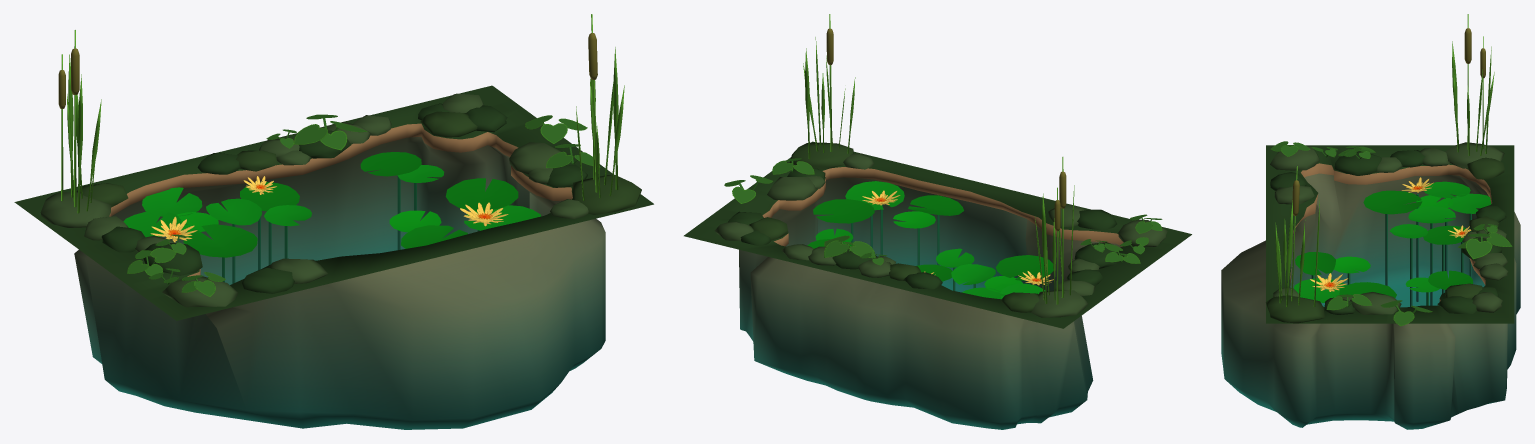
Rendered from Pond_NoAnim.glb.
The picture shows the model from 3 angles, left to right: view 1: azimuth 30°, elevation 25°; view 2: azimuth 150°, elevation 25°; view 3: azimuth 270°, elevation 25°; orthographic projection. The views are drawn at different scales.
Visible parts, largest first — view 1: Pond; view 2: Pond; view 3: Pond.
Boxes of the visible parts, box(x1,y1,x2,y2) form: Pond: box(14, 14, 653, 429); Pond: box(684, 14, 1191, 429); Pond: box(1221, 14, 1520, 429).
Bounding box in the file's own units: 12.31 × 8.07 × 8.3.
1 material, 1 textured.
